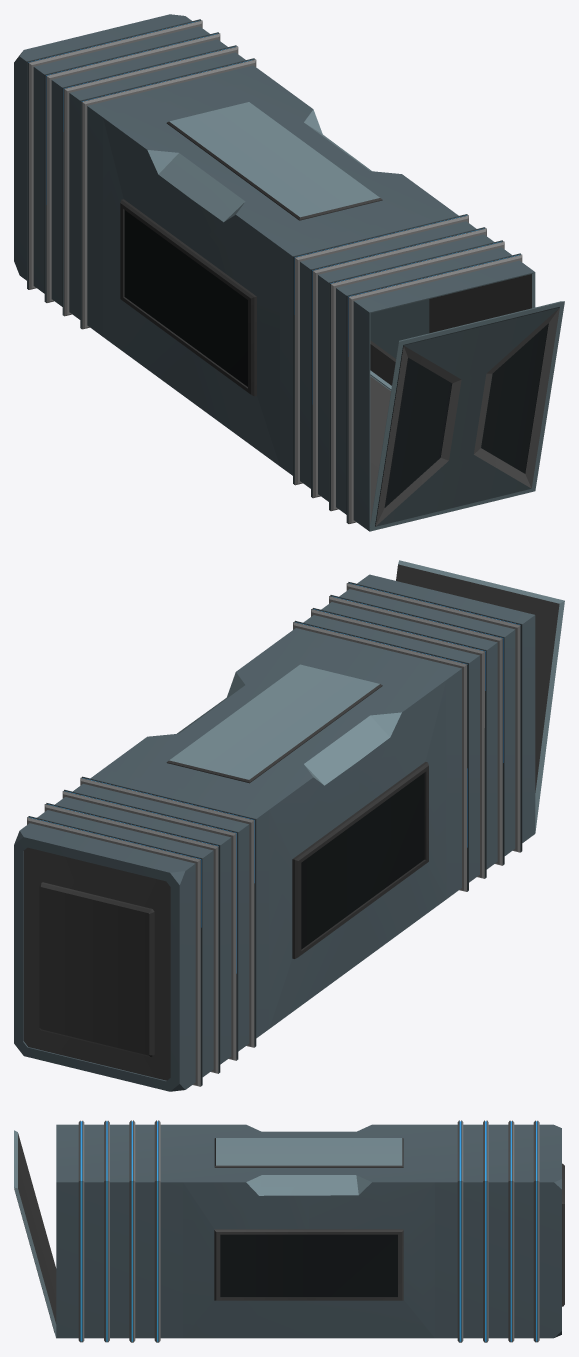
File: Futuristic Shipping Container Partially Open.fbx
3 renders of one model, top to bottom at view 1: azimuth 30°, elevation 25°; view 2: azimuth 150°, elevation 25°; view 3: azimuth 270°, elevation 25°, orthographic. The views are drawn at different scales.
Parts seen in each view (by area): view 1: Future Container Partially Open; view 2: Future Container Partially Open; view 3: Future Container Partially Open.
Boxes of the visible parts, x1,y1,x2,y2 form: Future Container Partially Open: (14, 14, 564, 531); Future Container Partially Open: (14, 560, 564, 1091); Future Container Partially Open: (14, 1120, 564, 1342).
Size of the model in its own units: 1017 by 3139 by 834.
1 material, 1 textured.
